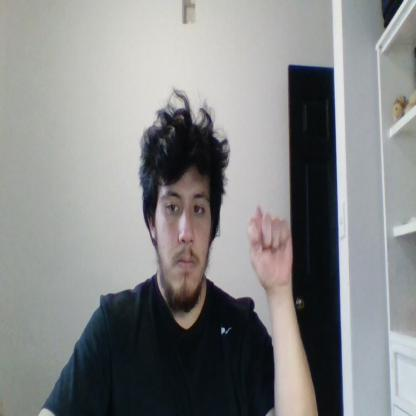T: (247, 206, 294, 286)
